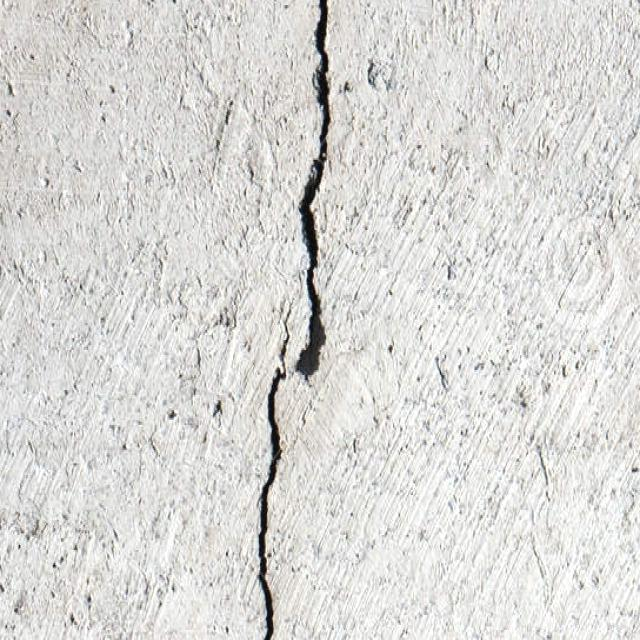Crack: (252, 0, 333, 639)
